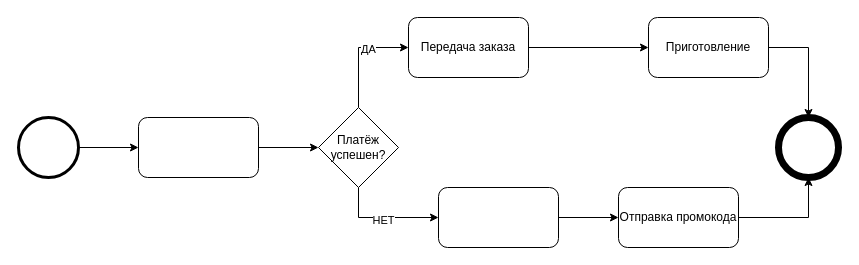
Image size: 859x265. Some labels were removed from this diagram. The box of each missing label's shape, as (x1, y1, x2, y2) in pixels:
Обработка платежа: (138, 116, 258, 178)
Отправка уведомления об ошибке: (438, 186, 558, 248)
